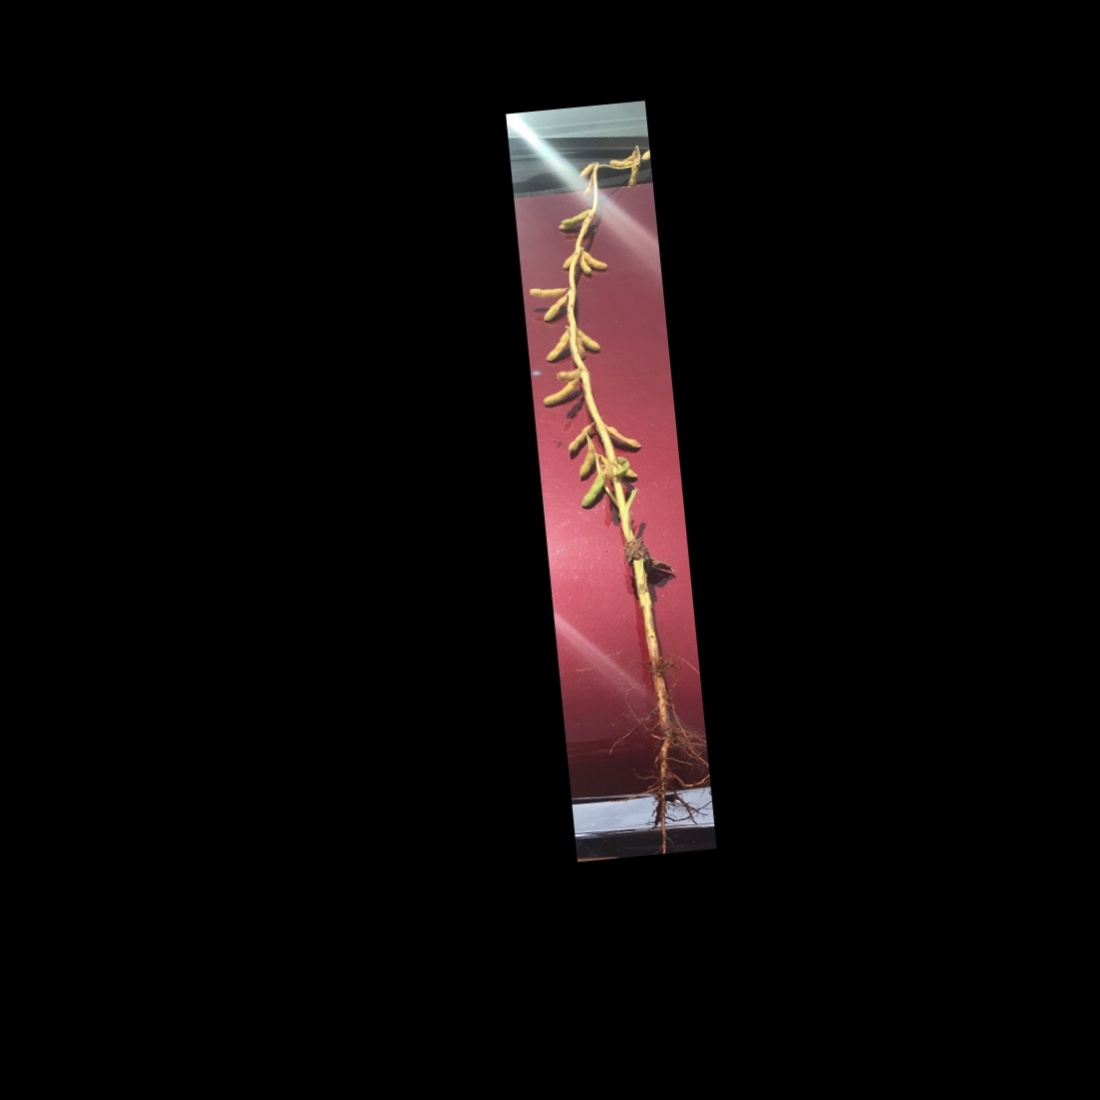pod: (538, 378, 585, 410), (576, 470, 609, 515), (536, 327, 573, 366), (572, 433, 599, 483), (604, 419, 641, 452), (539, 295, 570, 325), (524, 283, 571, 300), (622, 165, 642, 191), (572, 160, 596, 180), (579, 173, 596, 198), (573, 333, 587, 363)
soy: (512, 141, 701, 706)
